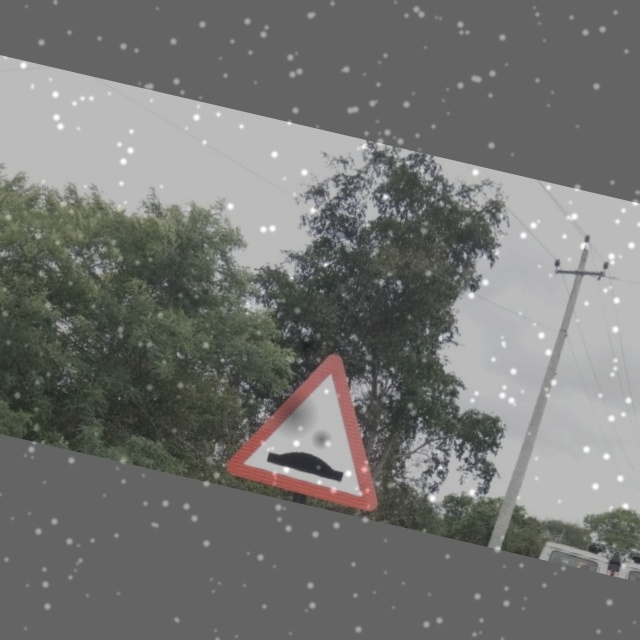Dangerous_Dip: (228, 335, 394, 498)
